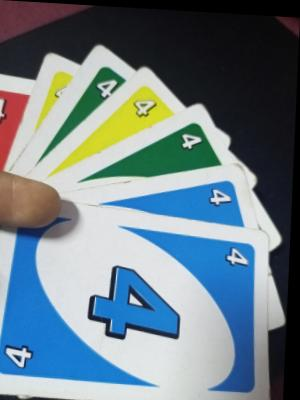blue: (4, 225, 265, 393), (117, 188, 244, 216)
green: (121, 150, 204, 167)
num_4: (3, 339, 46, 371), (131, 91, 161, 120), (93, 73, 122, 102), (225, 241, 254, 269), (207, 183, 236, 206), (181, 128, 207, 151)
